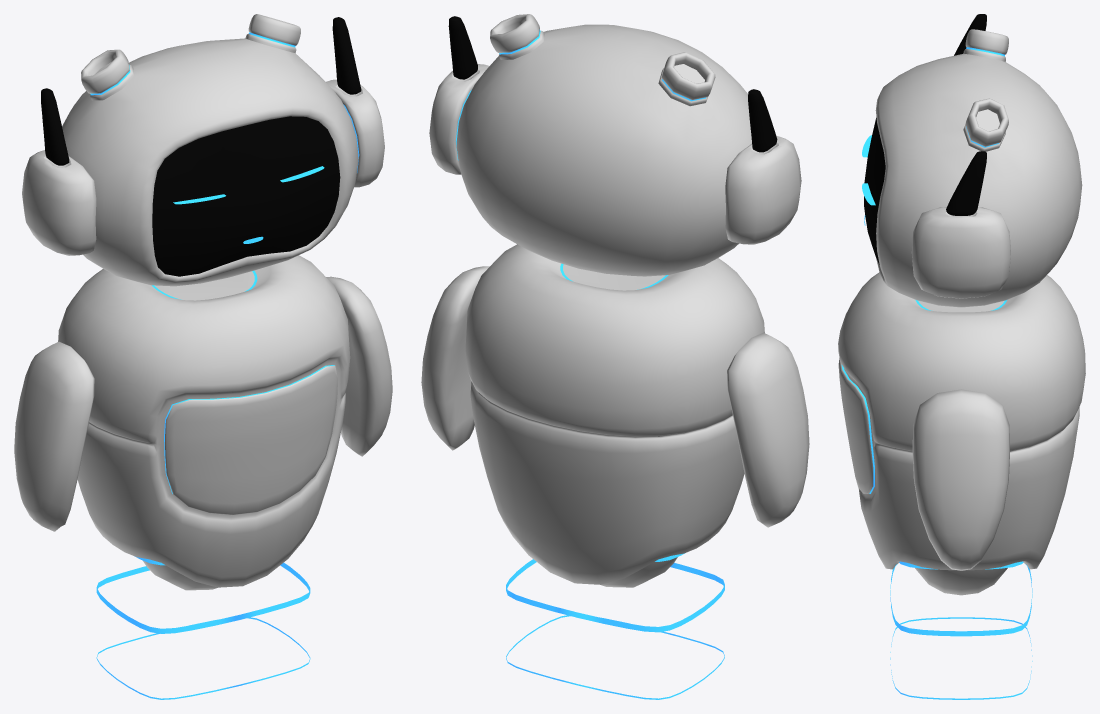
Rendered from robot.glb.
3 views of the same model, side by side, from view 1: azimuth 30°, elevation 25°; view 2: azimuth 150°, elevation 25°; view 3: azimuth 270°, elevation 25° (orthographic). The views are drawn at different scales.
Parts seen in each view (by area): view 1: Robot, hANDS.002, hANDS, Ears, Wave.002, Wave.003; view 2: Robot, hANDS.002, hANDS, Ears, Wave.002, Wave.003; view 3: Robot, hANDS, Ears, Wave.002, Wave.003.
Part boxes in pixels (box(x1,y1,x2,y2)): Robot: box(22, 14, 384, 590); hANDS.002: box(14, 341, 94, 531); hANDS: box(326, 276, 392, 456); Ears: box(41, 17, 361, 165); Wave.002: box(96, 562, 310, 633); Wave.003: box(96, 617, 310, 699); Robot: box(429, 14, 801, 587); hANDS.002: box(727, 332, 809, 527); hANDS: box(421, 266, 489, 450); Ears: box(448, 16, 777, 152); Wave.002: box(506, 559, 724, 632); Wave.003: box(506, 615, 724, 699); Robot: box(838, 29, 1085, 595); hANDS: box(912, 389, 1010, 570); Ears: box(946, 14, 986, 215); Wave.002: box(890, 564, 1032, 636); Wave.003: box(890, 617, 1032, 699).
Size of the model in its own units: 2.07 by 3.42 by 1.29.
